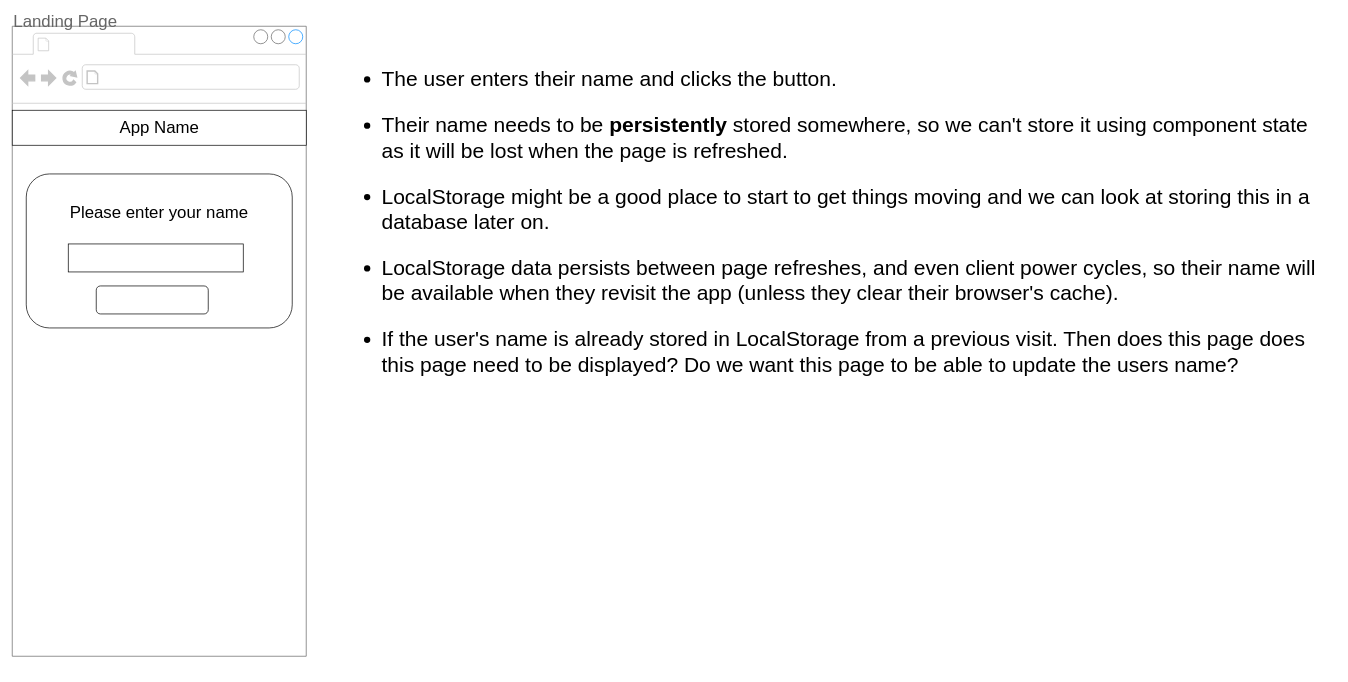
This 1348x682 diagram has some shape labels left out. Each missing label, with the centre of its shape:
Go!: (152,299)
Text Input: (155,257)
